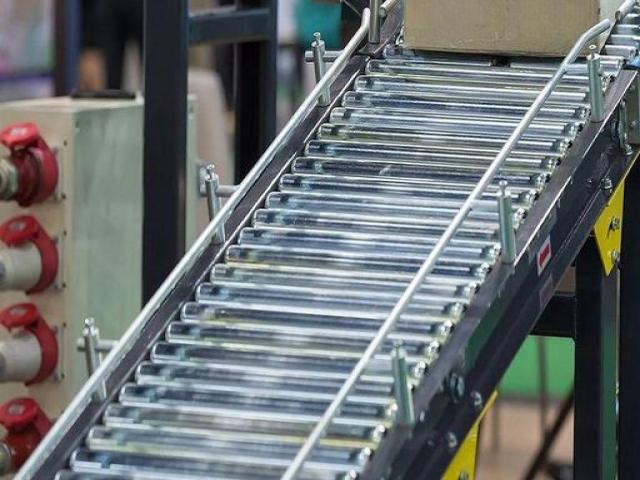conveyor: (2, 0, 638, 479)
